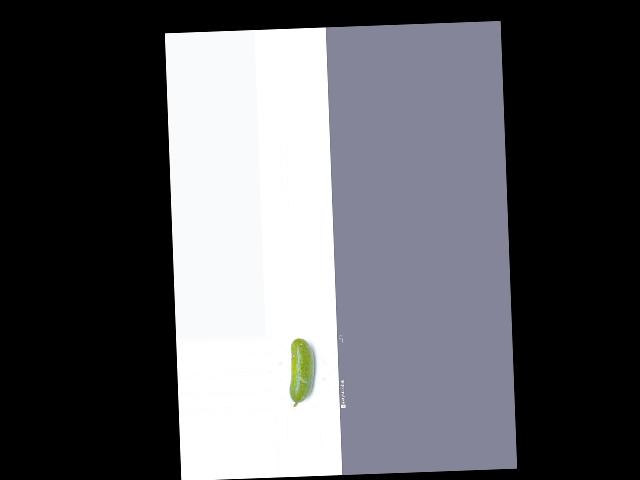cucumber: (287, 337, 316, 407)
